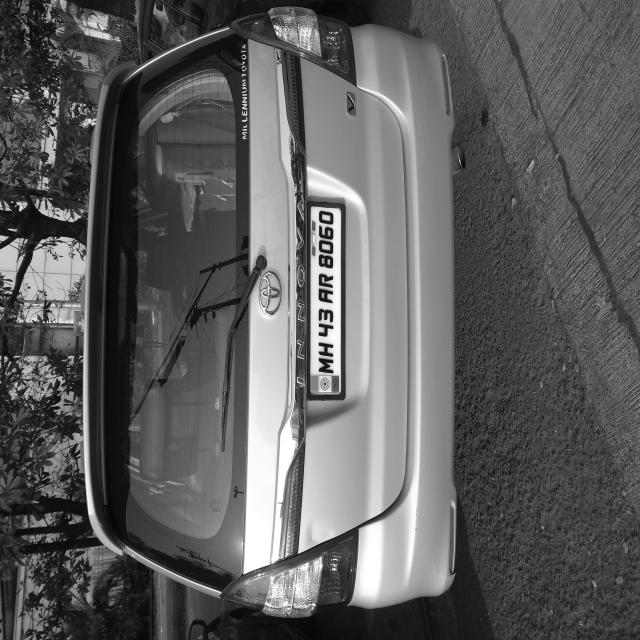car: (14, 105, 480, 609)
license-plate: (184, 404, 330, 462)
